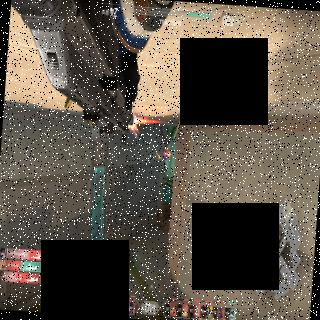ENEMY-BODY: (162, 125, 172, 163)
ENEMY-HEAD: (164, 156, 167, 162)
